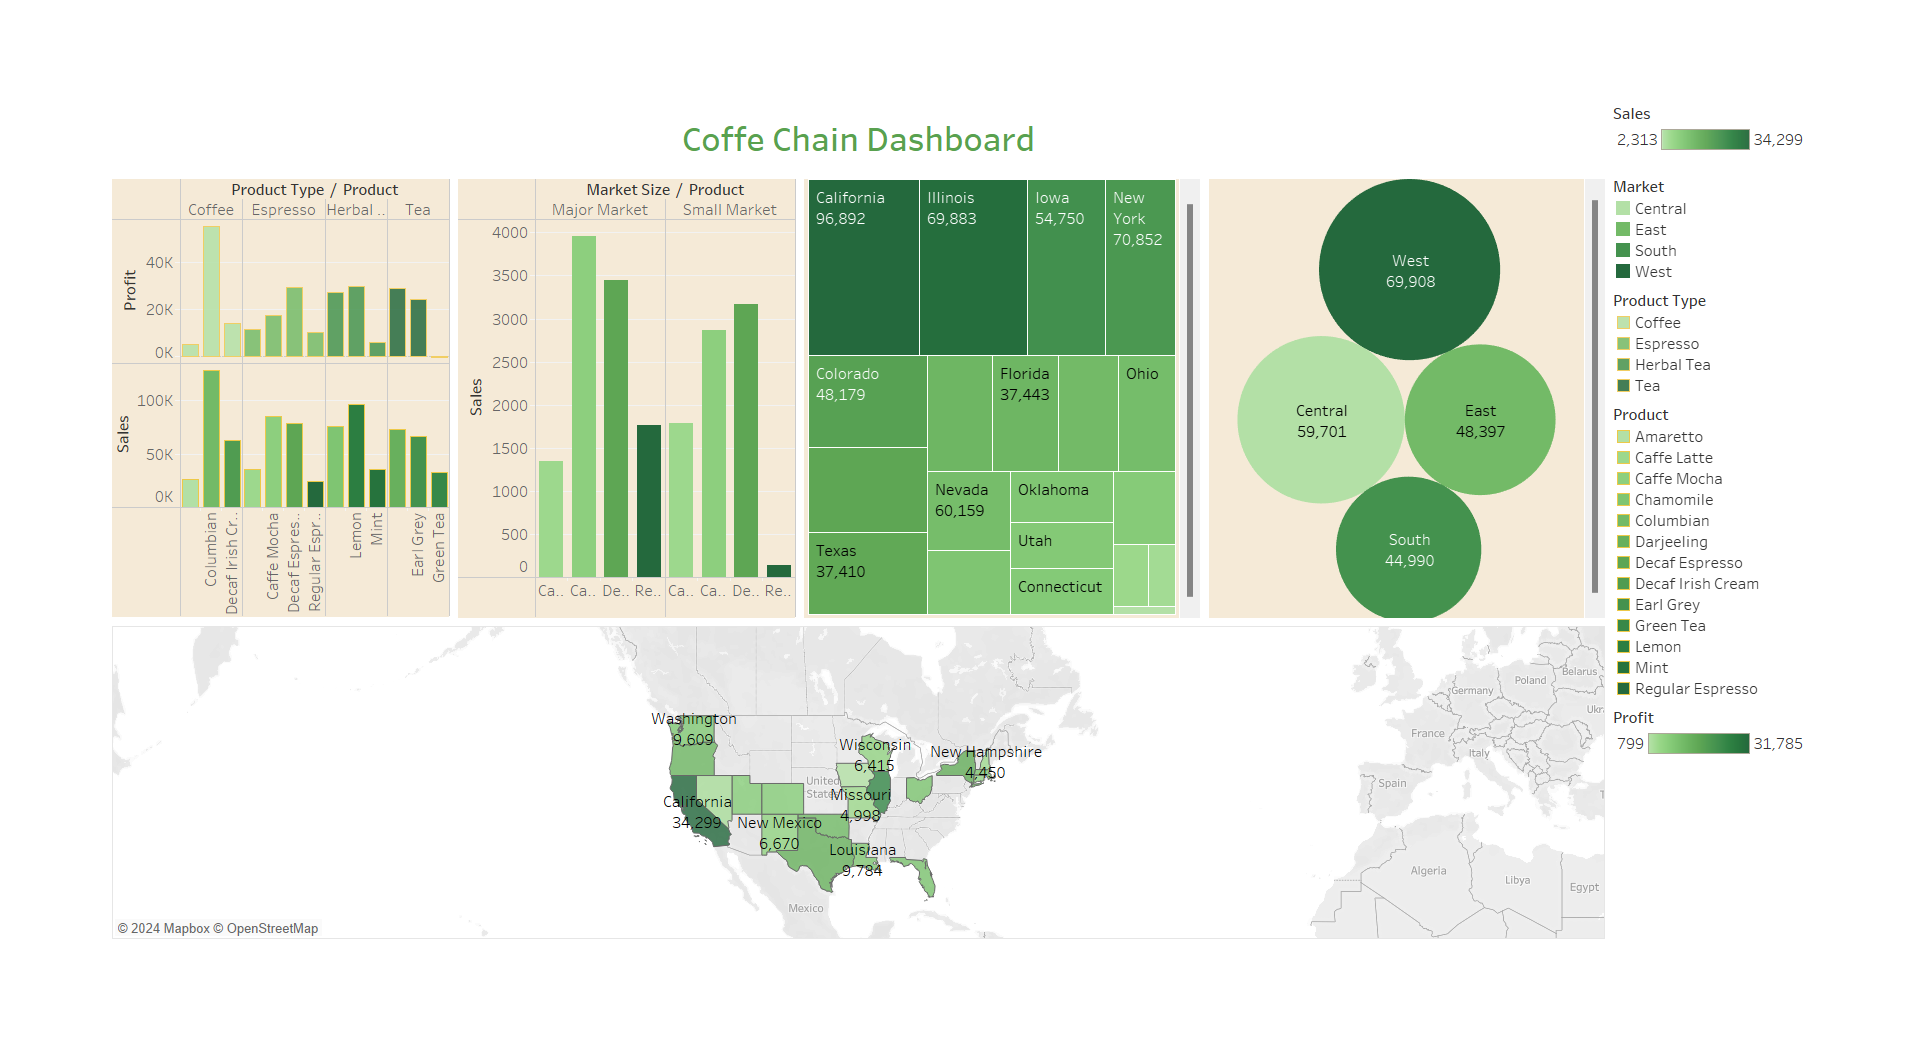

The page's visual inventory and layout, read from the dashboard file:
{"tool":"tableau","page":{"name":"Dashboard 1","canvas":[1000,1000],"units":"permille","ordinal":0},"visuals":[{"type":"text","box":[4.8,9.3,867.9,88.4]},{"type":"legend","title":"State-Sales Distribution","param":"[federated.1lxhtko1cibiyk12hz2ox0kqabic].[sum:Sales:qk]","box":[872.7,9.3,122.4,84.9]},{"type":"legend","title":"Market Sale Distribution","param":"[federated.1lxhtko1cibiyk12hz2ox0kqabic].[none:Market:nk]","box":[872.7,94.2,122.4,132.6]},{"type":"worksheet","title":"Product Distribution","mark":"Automatic","rows":["Profit","Sales"],"cols":["Product Type","Product"],"box":[4.8,97.7,200.1,519.8]},{"type":"worksheet","title":"Market Size Distribution","mark":"Automatic","rows":["Sales"],"cols":["Market Size","Product"],"box":[204.9,97.7,200.1,519.8]},{"type":"worksheet","title":"Sheet 8","mark":"Automatic","box":[405,97.7,233.8,519.8]},{"type":"worksheet","title":"Market Sale Distribution","mark":"Circle","box":[638.9,97.7,233.8,519.8]},{"type":"legend","title":"Product Distribution","param":"[federated.1lxhtko1cibiyk12hz2ox0kqabic].[none:Product Type:nk]","box":[872.7,226.7,122.4,132.6]},{"type":"legend","title":"Product Distribution","param":"[federated.1lxhtko1cibiyk12hz2ox0kqabic].[none:Product:nk]","box":[872.7,359.3,122.4,352.3]},{"type":"worksheet","title":"State-Sales Distribution","mark":"Automatic","box":[4.8,617.4,867.9,373.3]},{"type":"legend","title":"Sheet 8","param":"[federated.1lxhtko1cibiyk12hz2ox0kqabic].[sum:Profit:qk]","box":[872.7,711.6,122.4,84.9]}]}

Visuals, with their boxes on the dashboard's canvas, which has no fixed pixel size, in thousandths of its width and height (x1, y1, x2, y2). These are canvas units, not pixel positions in the 1916x1042 screenshot, which may show the page scaled, cropped or inside an application window:
text: detection(5, 9, 873, 98)
"State-Sales Distribution" legend: detection(873, 9, 995, 94)
"Market Sale Distribution" legend: detection(873, 94, 995, 227)
"Product Distribution" worksheet: detection(5, 98, 205, 618)
"Market Size Distribution" worksheet: detection(205, 98, 405, 618)
"Sheet 8" worksheet: detection(405, 98, 639, 618)
"Market Sale Distribution" worksheet (Circle marks): detection(639, 98, 873, 618)
"Product Distribution" legend: detection(873, 227, 995, 359)
"Product Distribution" legend: detection(873, 359, 995, 712)
"State-Sales Distribution" worksheet: detection(5, 617, 873, 991)
"Sheet 8" legend: detection(873, 712, 995, 796)
